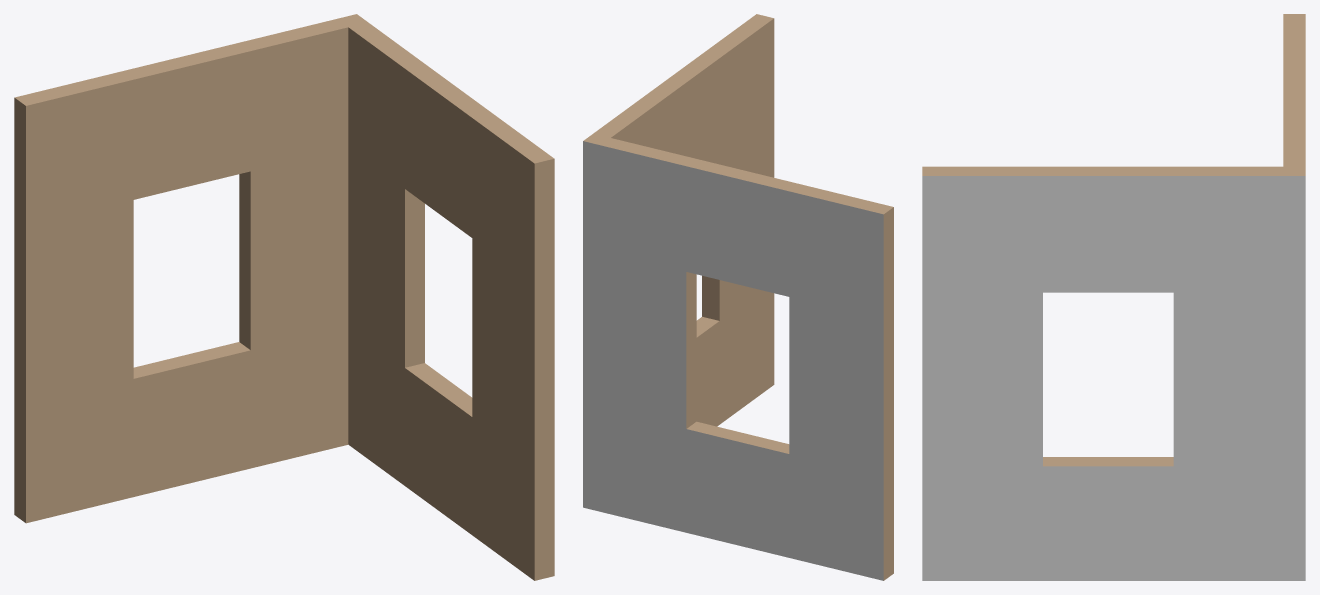
The model's file is Wall1_C2_09.fbx.
The picture shows the model from 3 angles, left to right: view 1: azimuth 30°, elevation 25°; view 2: azimuth 150°, elevation 25°; view 3: azimuth 270°, elevation 25°; orthographic projection. The views are drawn at different scales.
Visible parts, largest first — view 1: Wall1_C2_09; view 2: Wall1_C2_09; view 3: Wall1_C2_09.
Boxes of the visible parts, x1,y1,x2,y2 form: Wall1_C2_09: (14, 14, 554, 580); Wall1_C2_09: (583, 14, 893, 580); Wall1_C2_09: (922, 14, 1305, 580).
Bounding box in the file's own units: 258 × 300 × 258.
